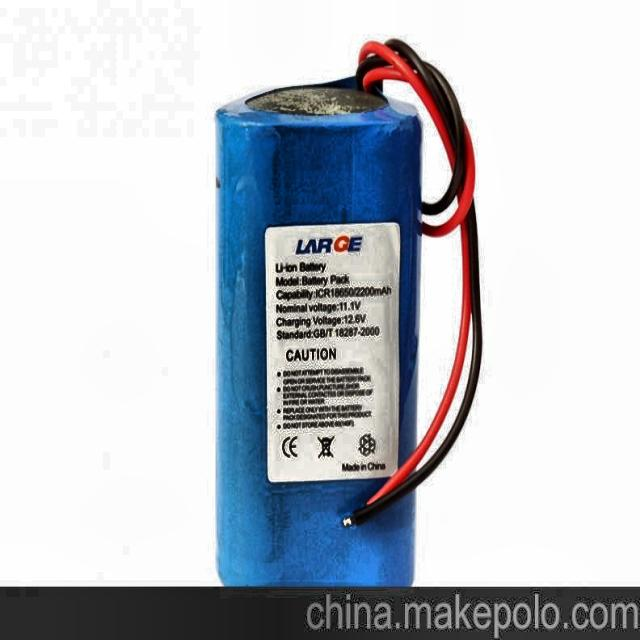Non-Valuable Waste - Batteries: (216, 40, 482, 586)
